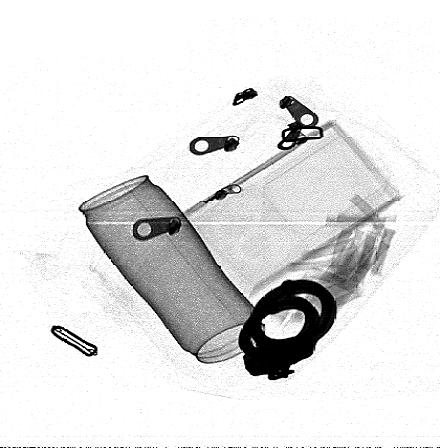HandCuffs: (237, 279, 337, 381)
